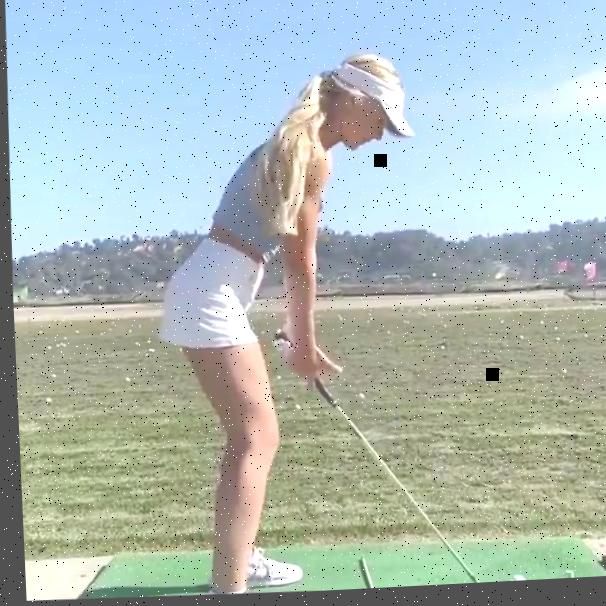ClubHead: (477, 583, 508, 587)
GolfBall: (507, 580, 522, 586)
